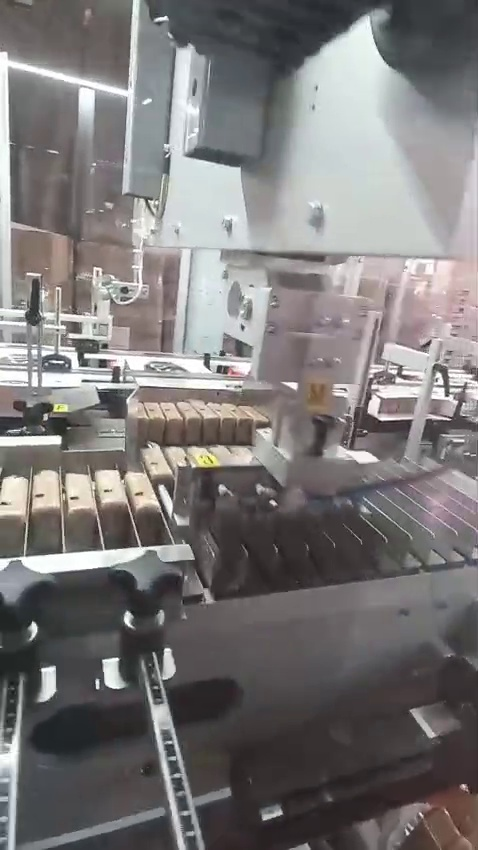savon: (138, 399, 270, 449), (0, 476, 88, 532), (142, 462, 169, 503), (19, 239, 54, 270), (94, 488, 128, 518), (304, 378, 330, 416), (185, 452, 224, 473), (46, 255, 76, 276), (432, 820, 448, 850), (126, 487, 145, 502), (470, 794, 478, 826)
